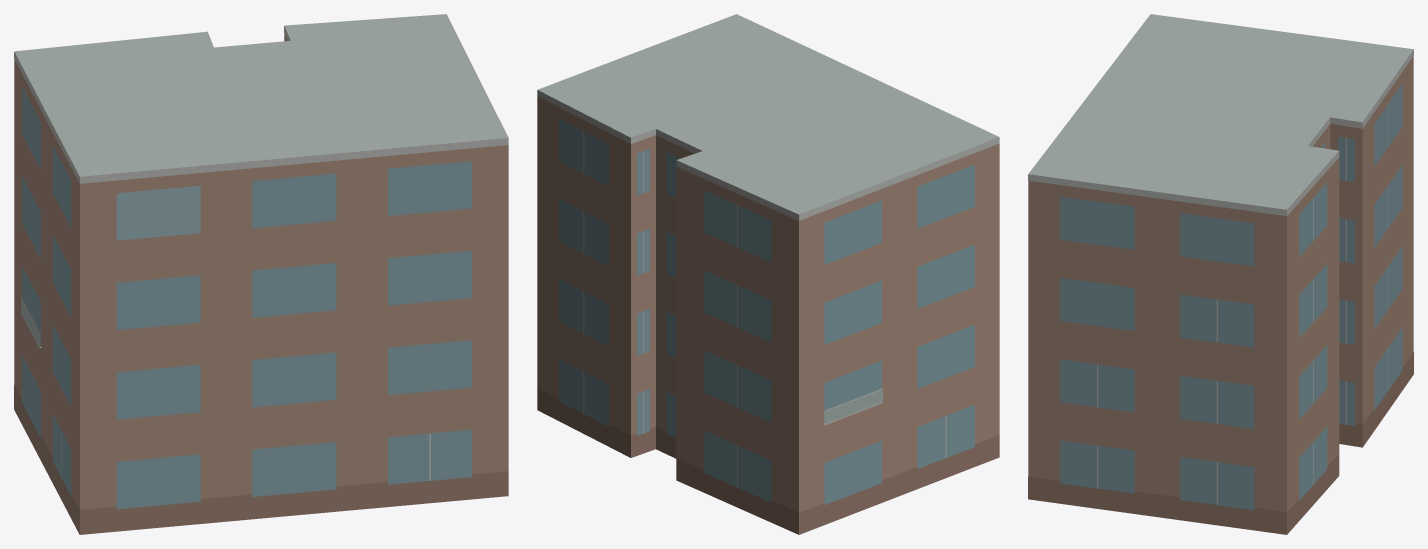
Rendered from survey-upis-32776165.glb.
3 renders of one model, left to right at view 1: azimuth 30°, elevation 25°; view 2: azimuth 150°, elevation 25°; view 3: azimuth 270°, elevation 25°, orthographic. The views are drawn at different scales.
Visible parts, largest first — view 1: survey-upis-32776165.tmp; view 2: survey-upis-32776165.tmp; view 3: survey-upis-32776165.tmp.
Part boxes in pixels (<box>): survey-upis-32776165.tmp: <box>14,14,508,534</box>; survey-upis-32776165.tmp: <box>537,14,999,534</box>; survey-upis-32776165.tmp: <box>1028,14,1413,534</box>.
Size of the model in its own units: 16.03 by 12.4 by 13.34.
